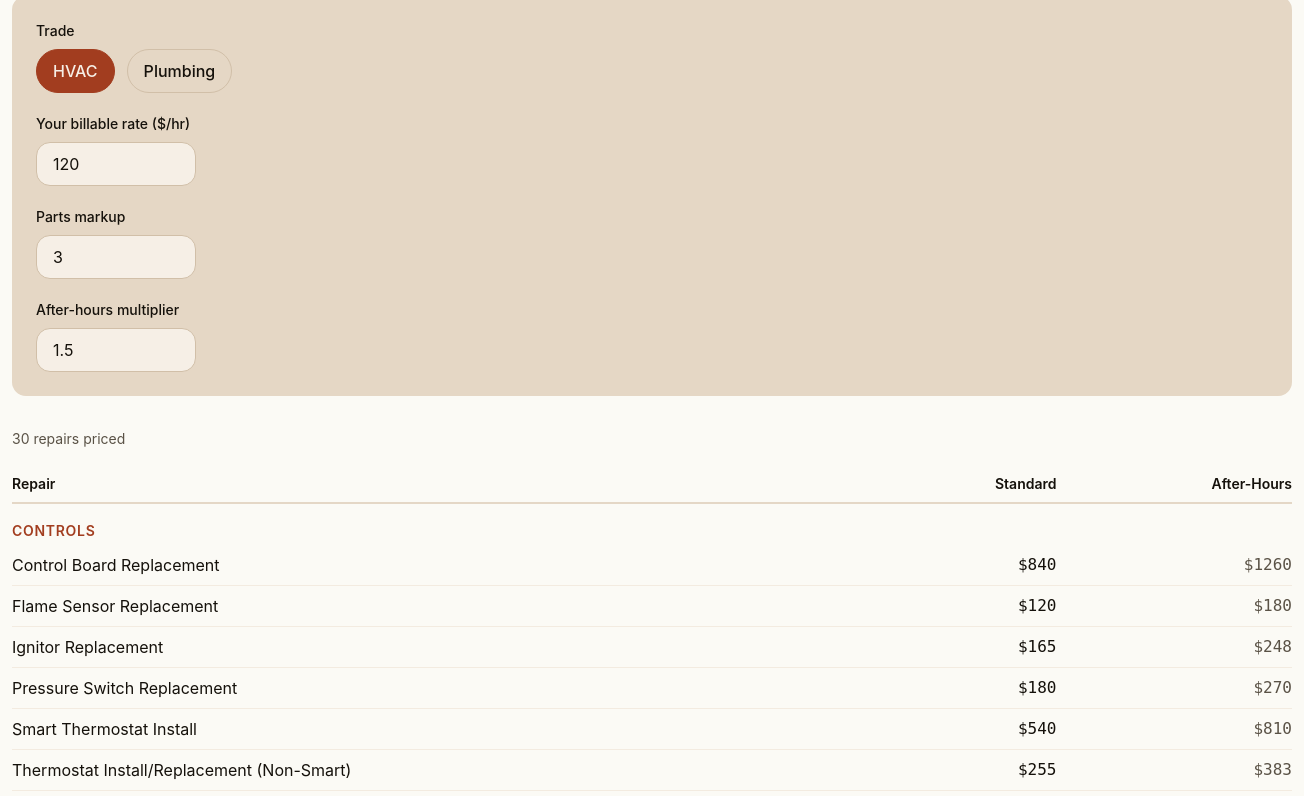
Test: PricebookBuilder › results table › shows plumbing categories after trade switch
Step 1. Click the button "Plumbing" → [179, 71], box [127,49,232,93]
(page scrolled)
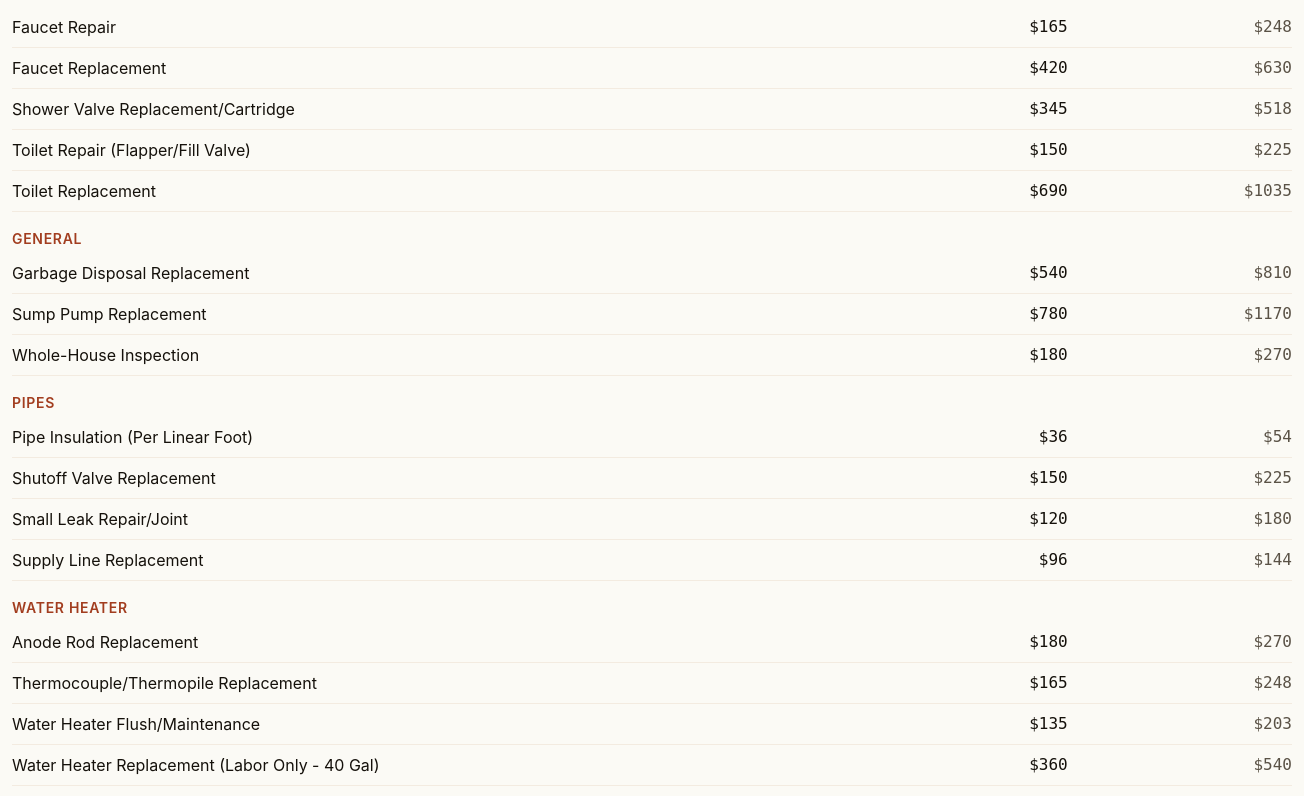
expect the text "Pipes" is shown: met, box [12,376,1292,417]
